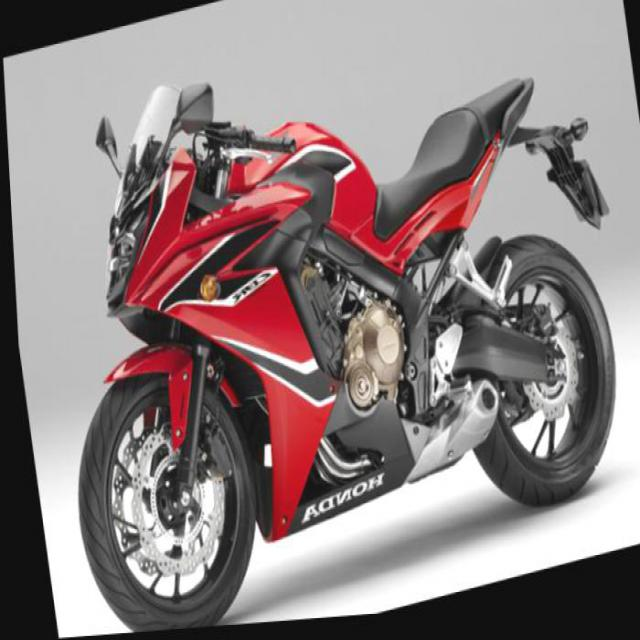CBR650R: (15, 0, 637, 638)
